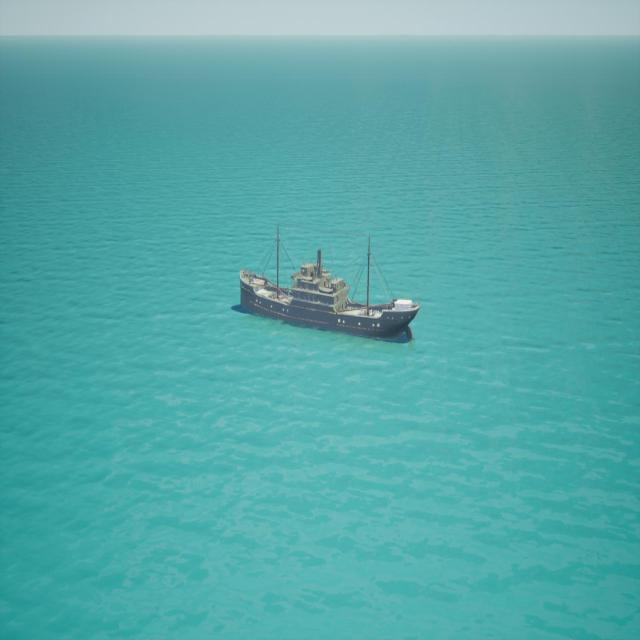fishing ship: (238, 231, 419, 343)
